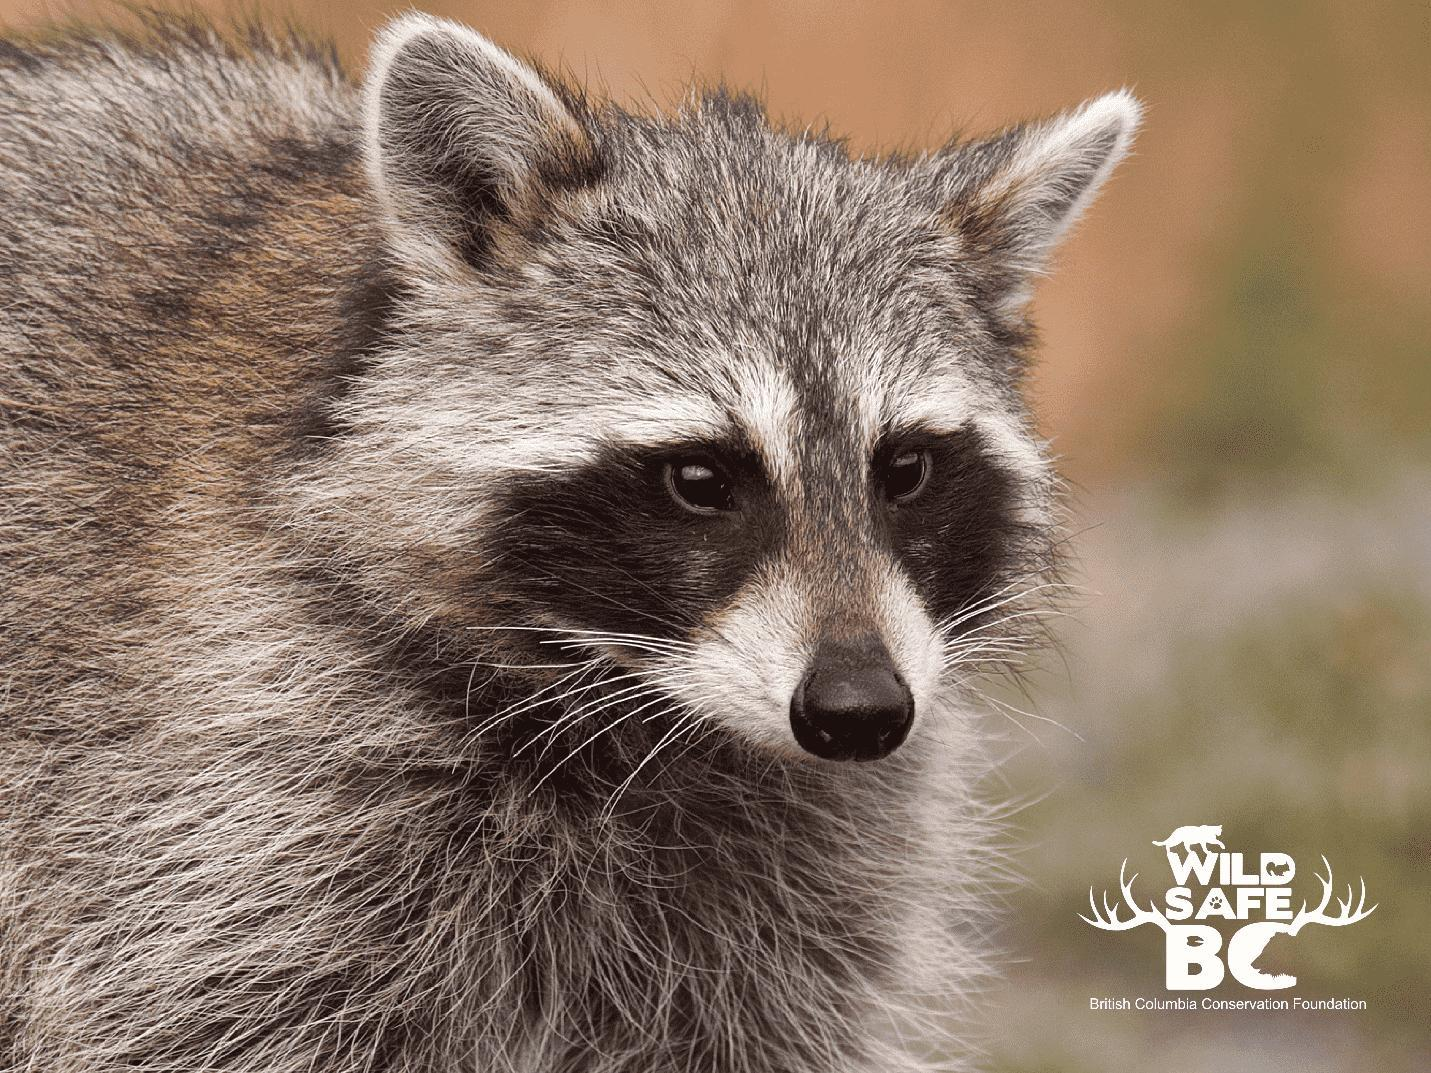raccoon: (0, 16, 1158, 1073)
